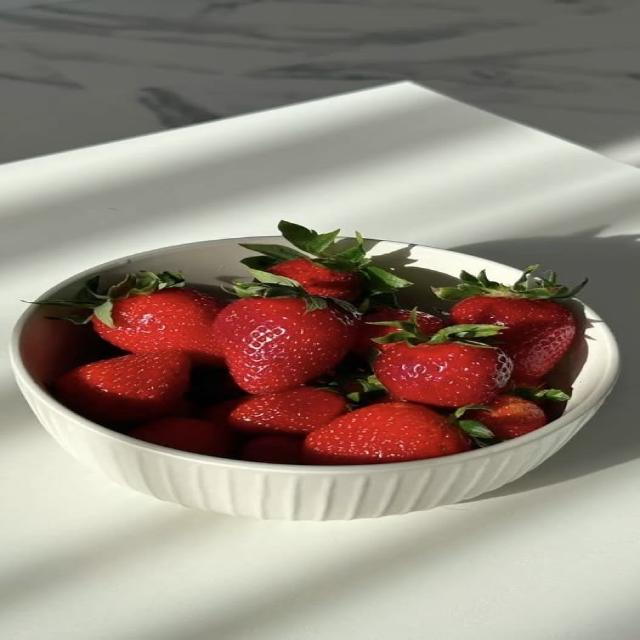strawberry: (434, 267, 586, 383), (214, 270, 357, 393), (41, 272, 223, 365), (242, 221, 411, 302), (373, 325, 512, 406), (304, 403, 472, 464), (55, 352, 190, 424), (229, 386, 347, 434), (354, 307, 445, 357), (268, 258, 363, 301), (128, 418, 230, 457), (464, 394, 548, 439), (240, 435, 302, 464), (202, 396, 251, 426)
